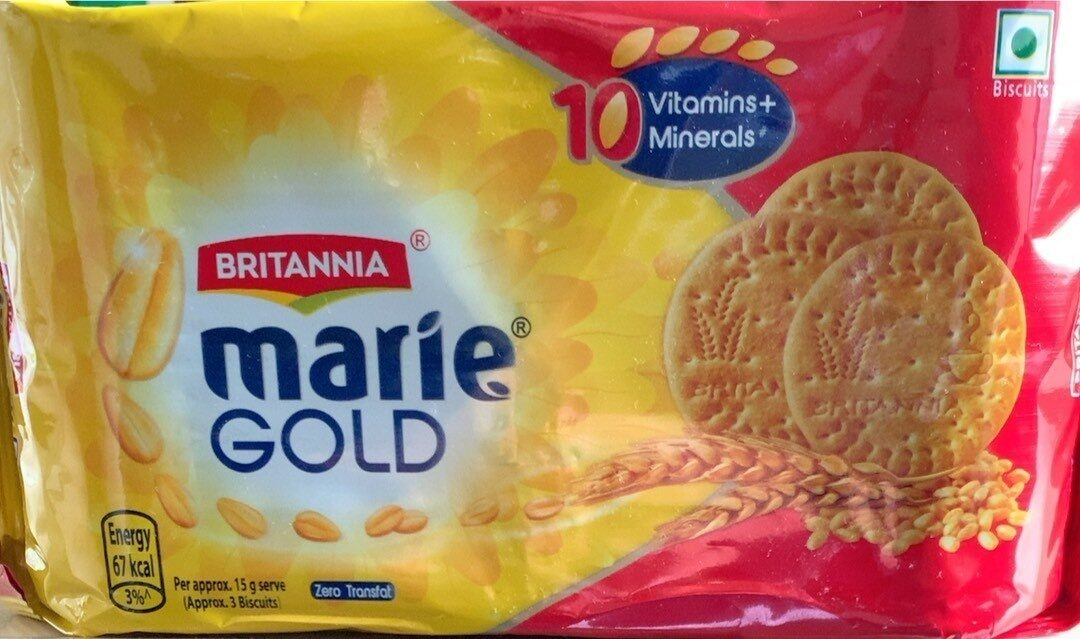Marie Gold: (97, 58, 983, 581)
